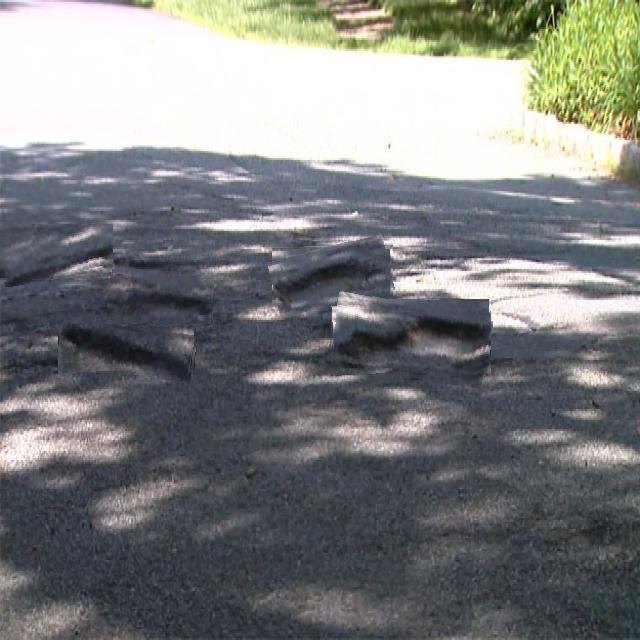Pothole: (328, 299, 491, 383), (270, 241, 393, 310), (58, 324, 197, 378), (0, 224, 113, 282), (107, 275, 214, 323)
